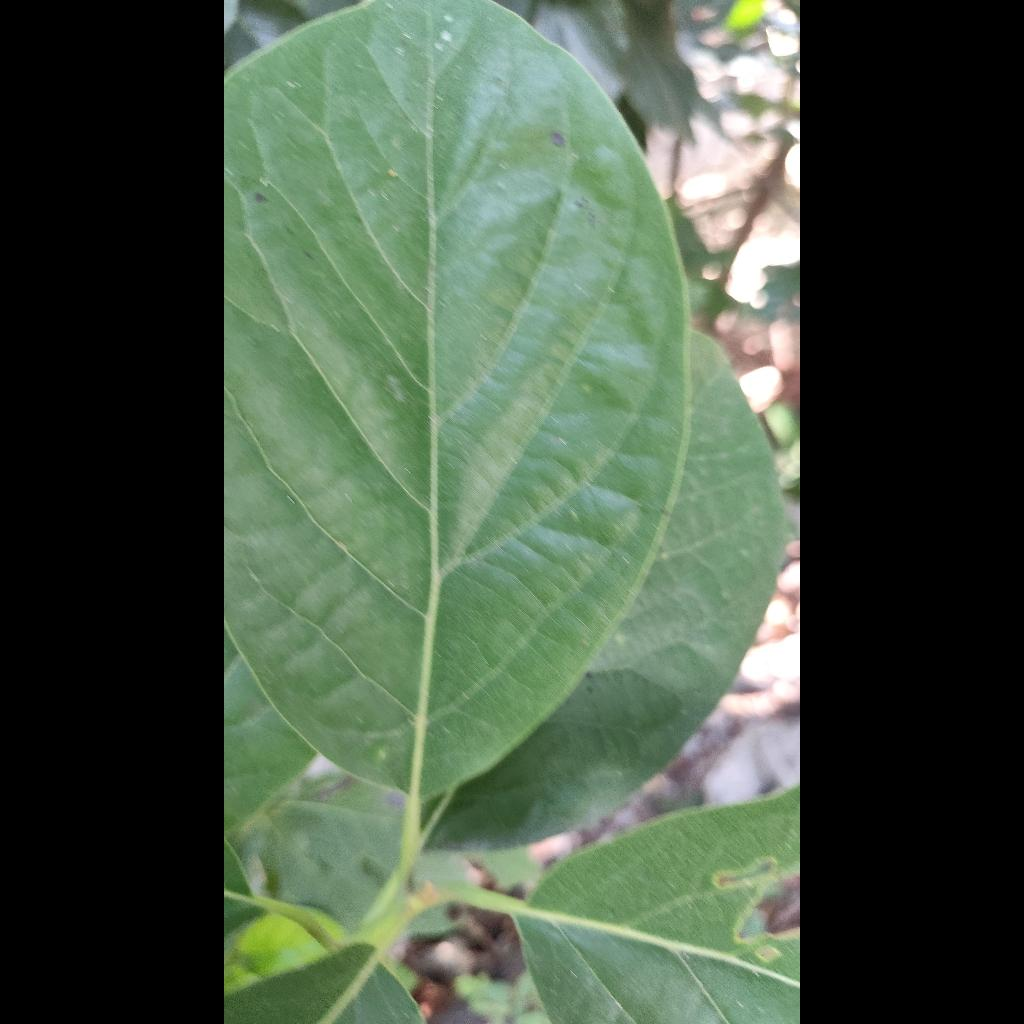hoja_sana: (224, 0, 689, 876)
